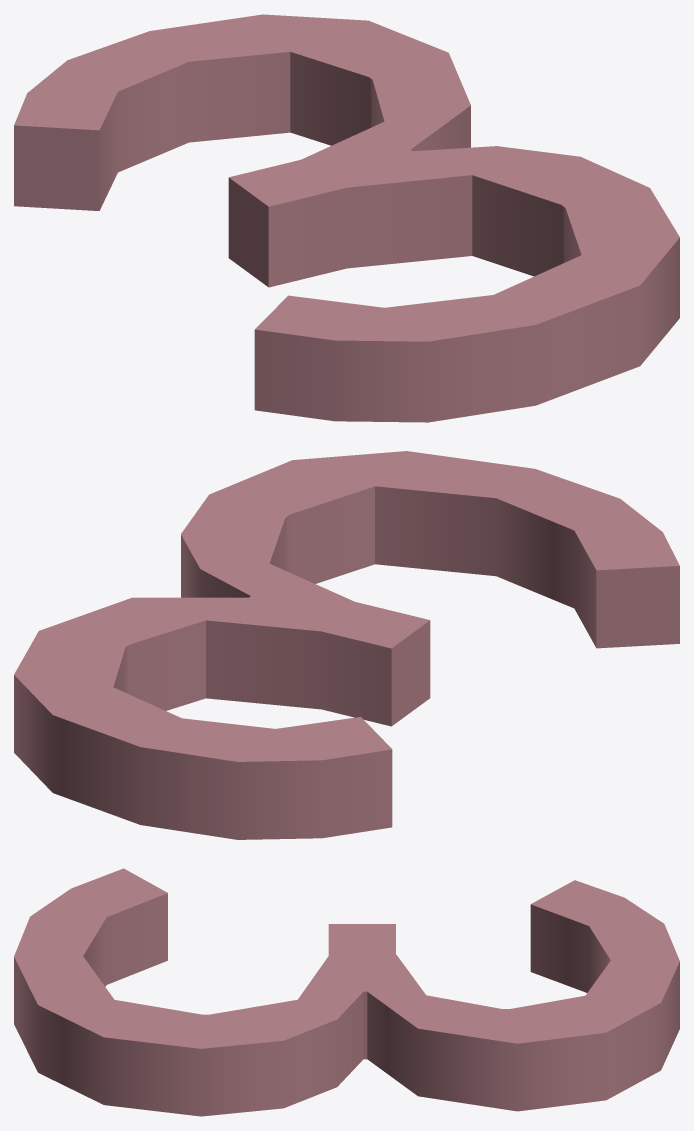
File: Three.fbx
3 renders of one model, top to bottom at view 1: azimuth 30°, elevation 25°; view 2: azimuth 150°, elevation 25°; view 3: azimuth 270°, elevation 25°, orthographic. The views are drawn at different scales.
Parts seen in each view (by area): view 1: Three; view 2: Three; view 3: Three.
Part boxes in pixels (box(x1,y1,x2,y2)): Three: box(14, 14, 679, 422); Three: box(14, 451, 679, 839); Three: box(14, 868, 679, 1116).
Bounding box in the file's own units: 0.1436 × 0.0251 × 0.2239.
